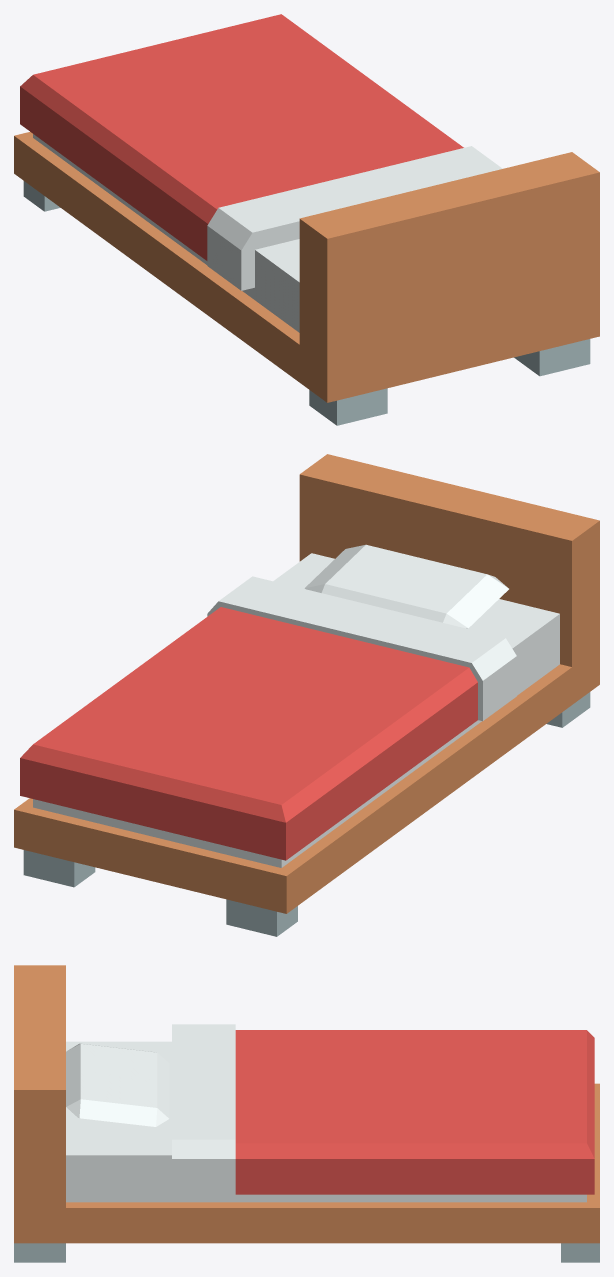
The model's file is bedSingle.dae.
3 views of the same model, one above another, from view 1: azimuth 30°, elevation 25°; view 2: azimuth 150°, elevation 25°; view 3: azimuth 270°, elevation 25° (orthographic). The views are drawn at different scales.
Visible parts, largest first — view 1: bedSingle, cover; view 2: cover, bedSingle, pillow; view 3: cover, bedSingle, pillow.
Part boxes in pixels (left/top/right/bottom): bedSingle: left=14, top=132, right=599, bottom=425; cover: left=20, top=14, right=502, bottom=290; cover: left=20, top=576, right=516, bottom=860; bedSingle: left=14, top=454, right=599, bottom=936; pillow: left=304, top=544, right=508, bottom=628; cover: left=172, top=1024, right=594, bottom=1196; bedSingle: left=14, top=965, right=599, bottom=1262; pillow: left=66, top=1043, right=169, bottom=1126.
Size of the model in its own units: 0.571 by 0.375 by 1.12.
